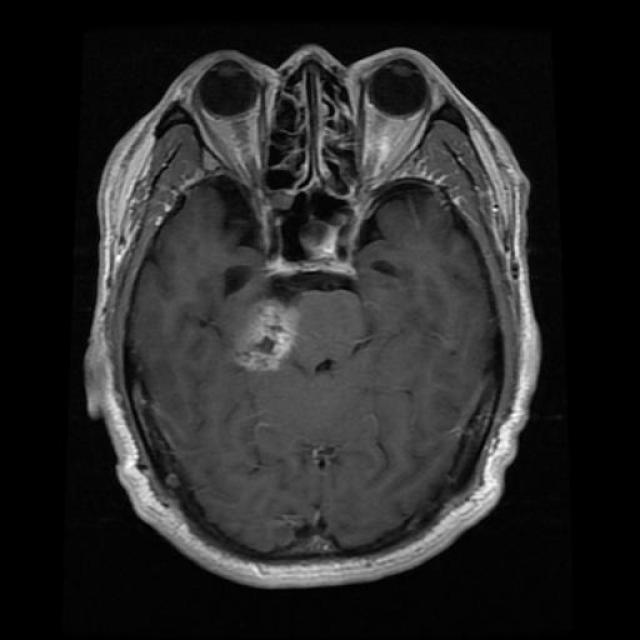Brain-Tumor: (213, 283, 318, 389)
eye: (170, 40, 276, 212), (343, 42, 448, 212)
